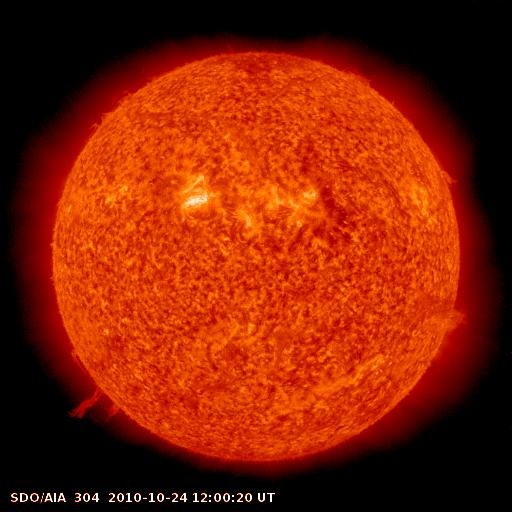prominence: (50, 345, 132, 428), (81, 83, 147, 141), (426, 299, 481, 343), (338, 59, 382, 98), (431, 158, 470, 198)
